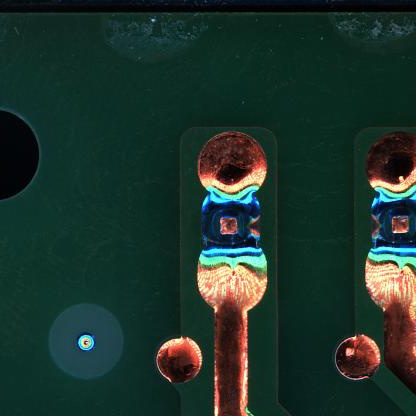spot: (199, 191, 261, 254), (368, 187, 416, 253)
